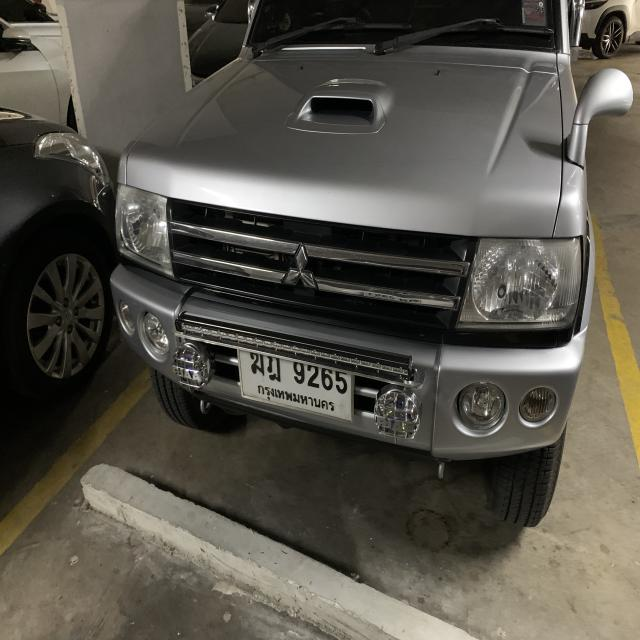license_plate: (238, 345, 356, 429)
